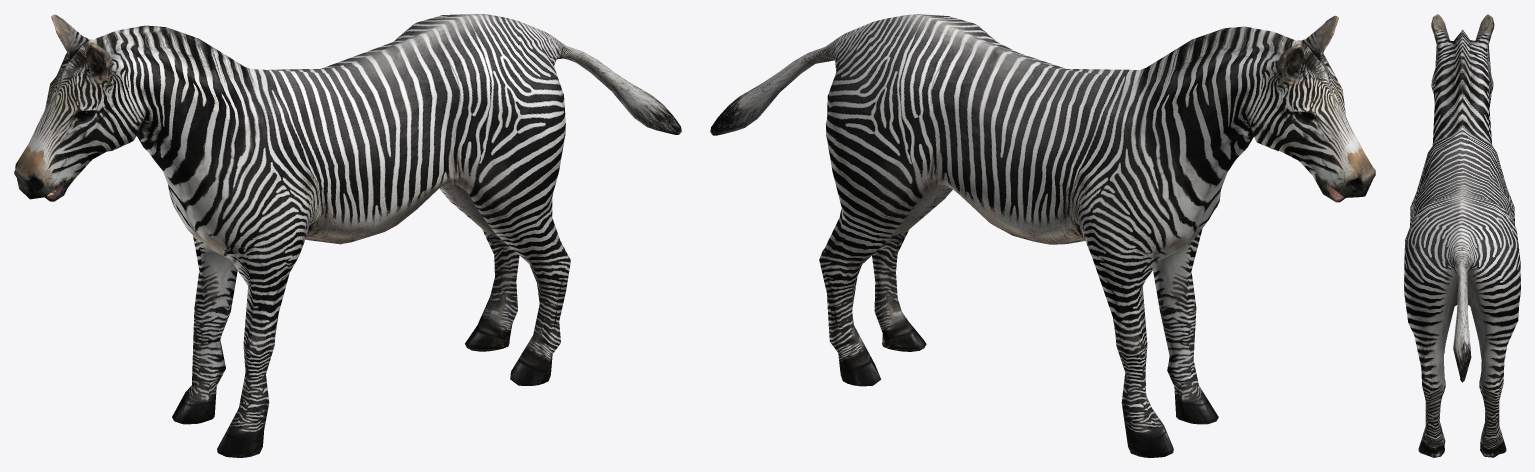
Rendered from Zebra.fbx.
3 views of the same model, side by side, from view 1: azimuth 30°, elevation 25°; view 2: azimuth 150°, elevation 25°; view 3: azimuth 270°, elevation 25° (orthographic). The views are drawn at different scales.
Visible parts, largest first — view 1: Zebra; view 2: Zebra; view 3: Zebra.
Boxes of the visible parts, x1=… form: Zebra: x1=14, y1=14, x2=681, y2=457; Zebra: x1=710, y1=14, x2=1375, y2=457; Zebra: x1=1404, y1=14, x2=1520, y2=457.
Bounding box in the file's own units: 1.87 × 1.2 × 0.4272.
1 material, 1 textured.
